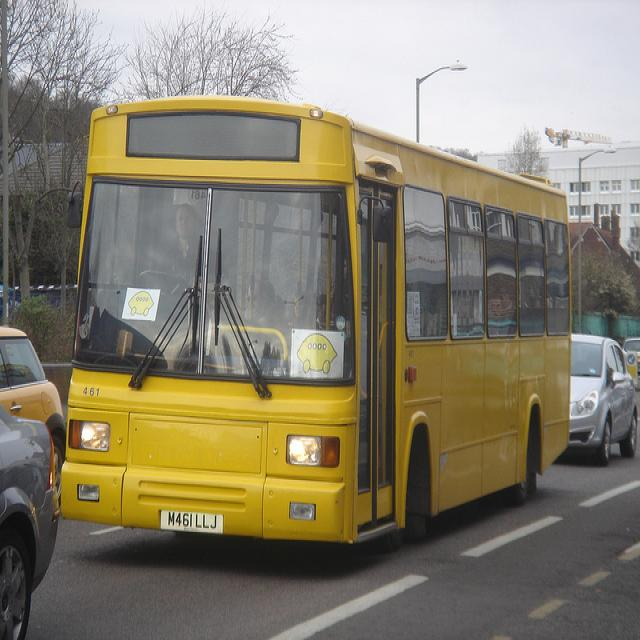Vehicle: (61, 101, 572, 539), (0, 401, 61, 635), (2, 329, 68, 466), (570, 335, 638, 466), (622, 337, 640, 373), (625, 350, 640, 390)
